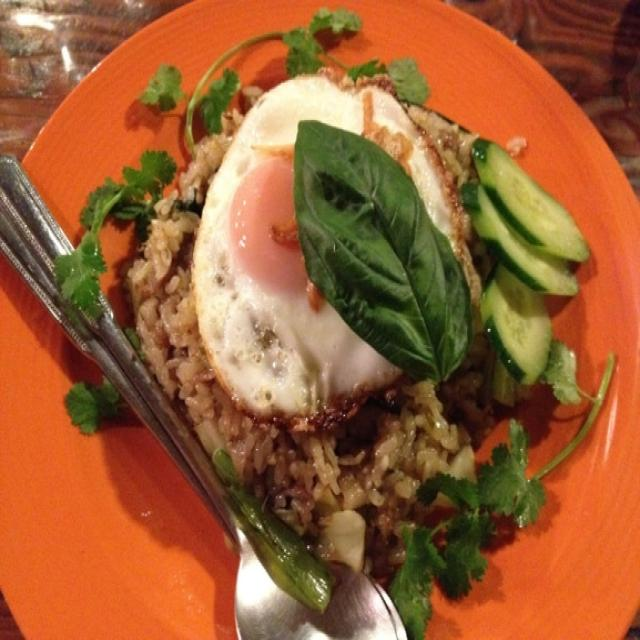面条主食: (29, 265, 475, 540)
